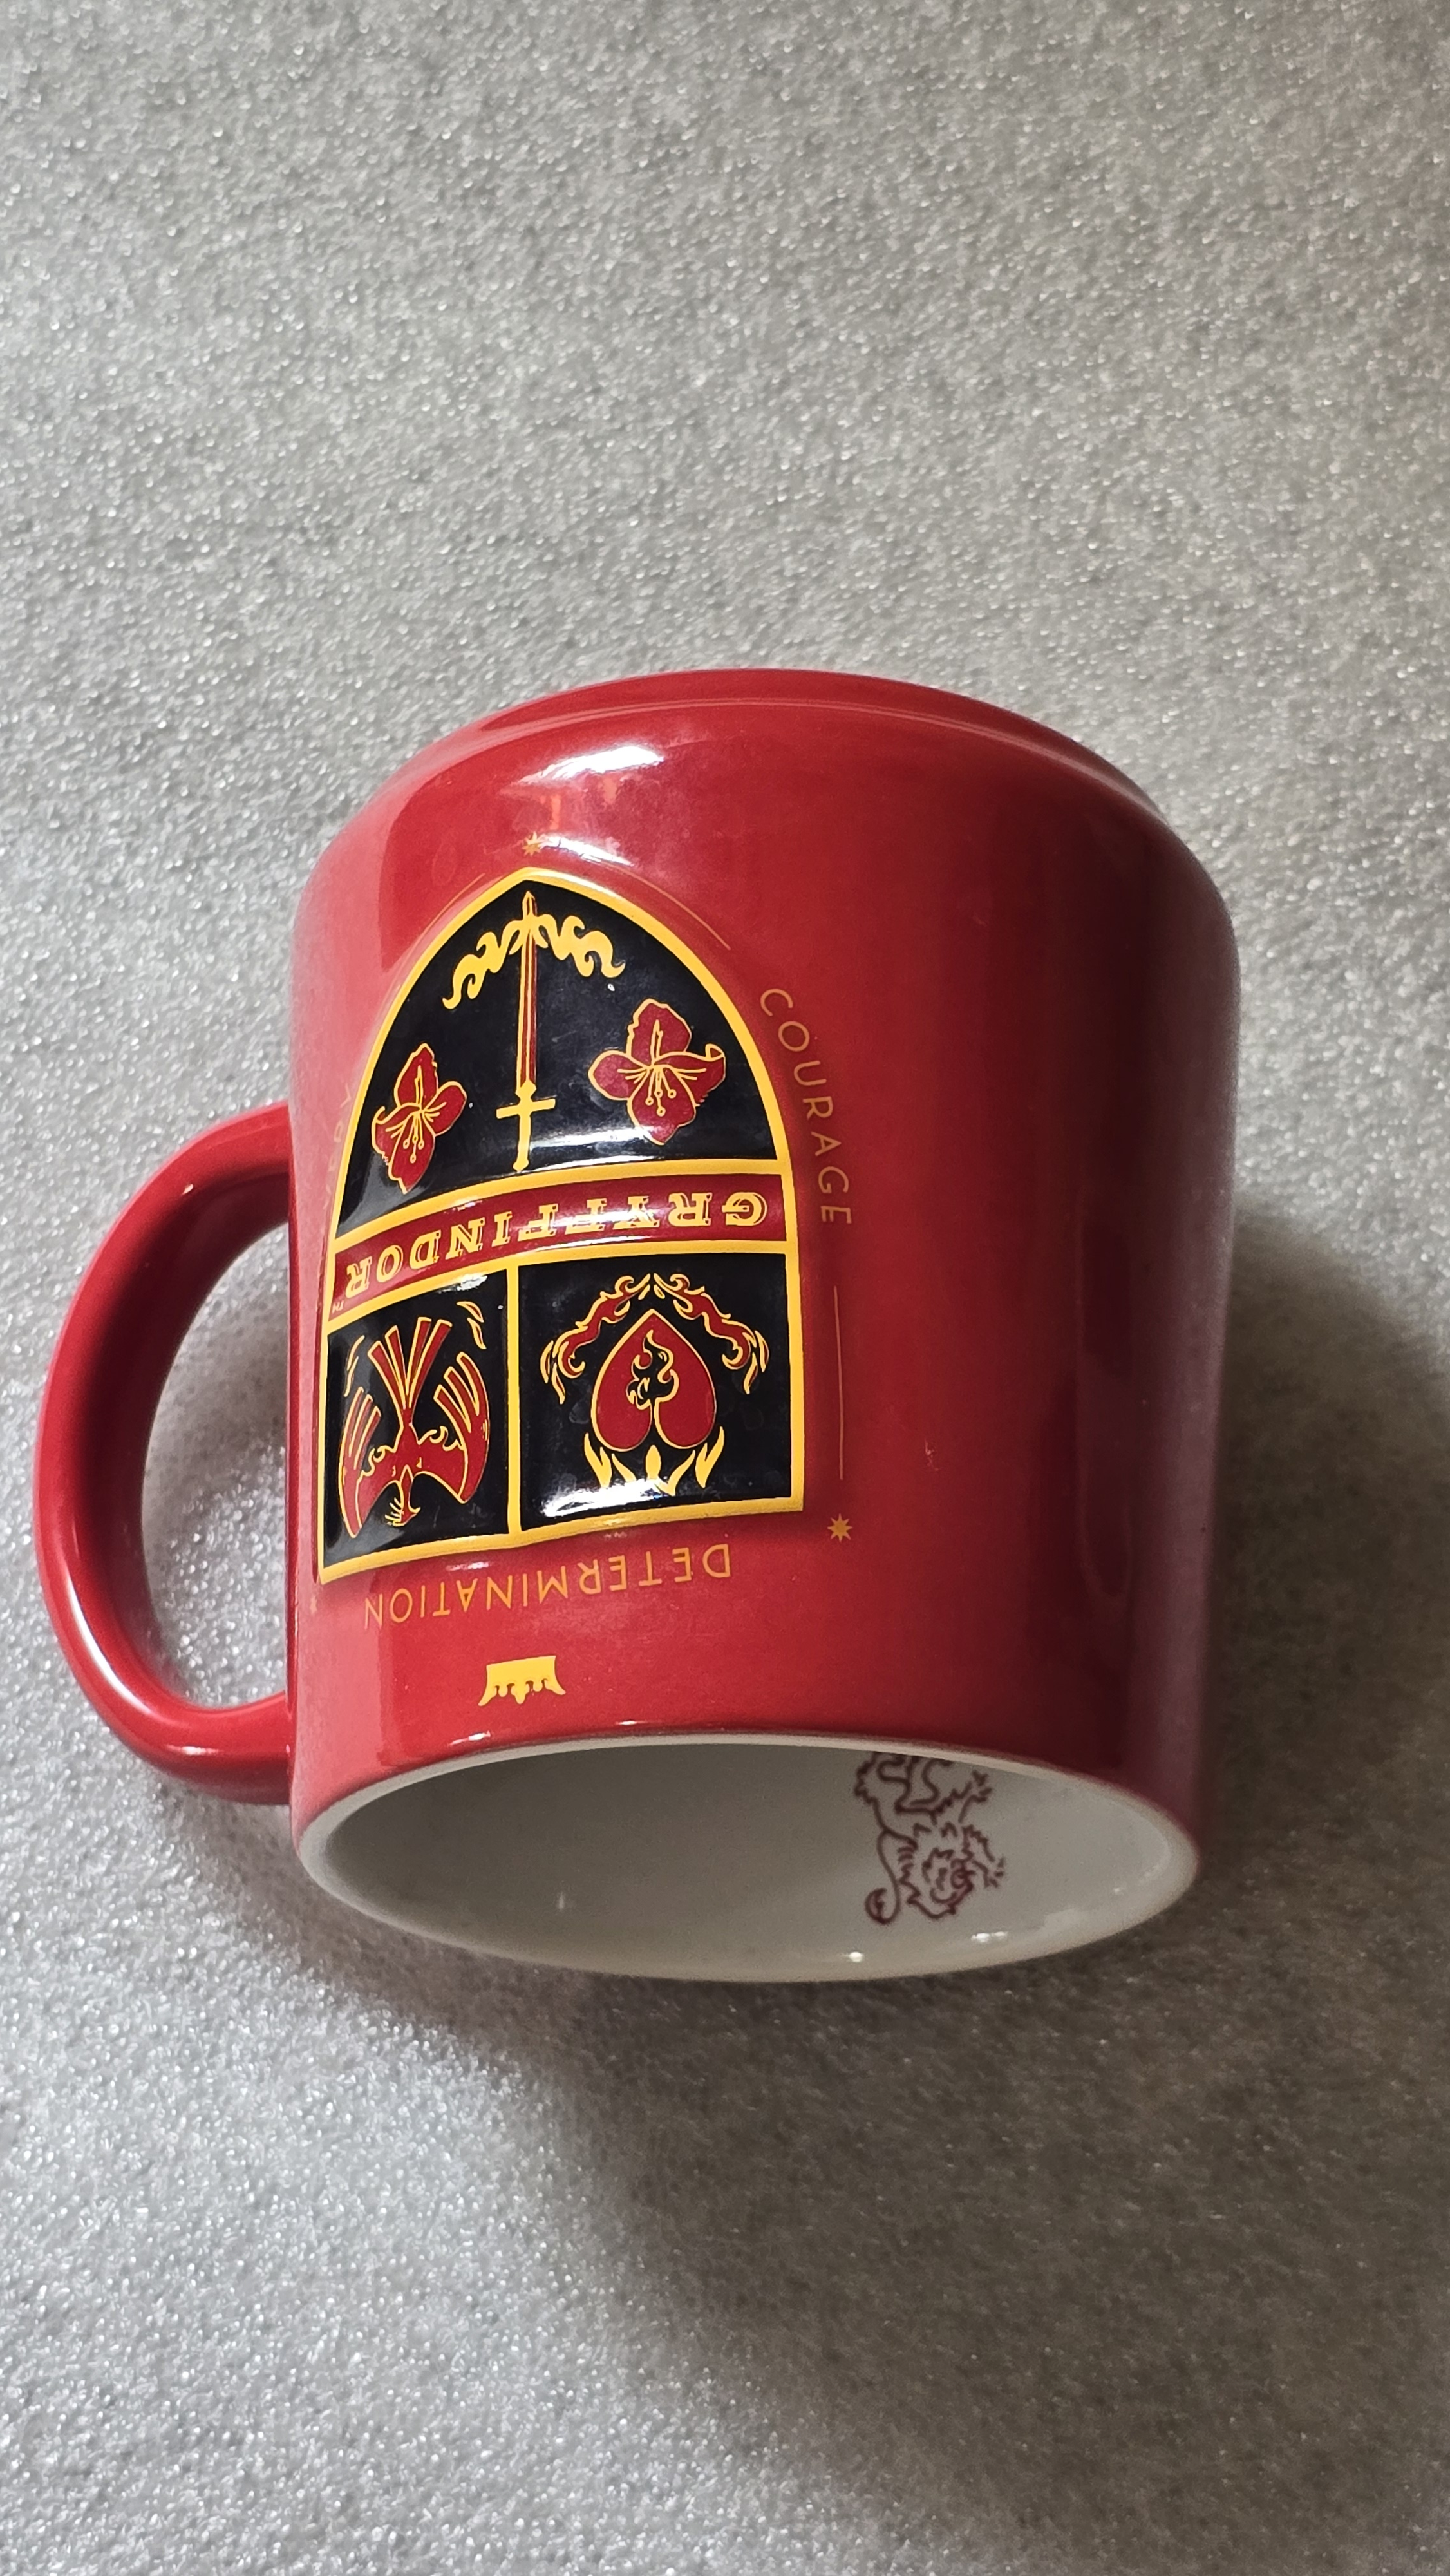mug: (27, 656, 1298, 2047)
